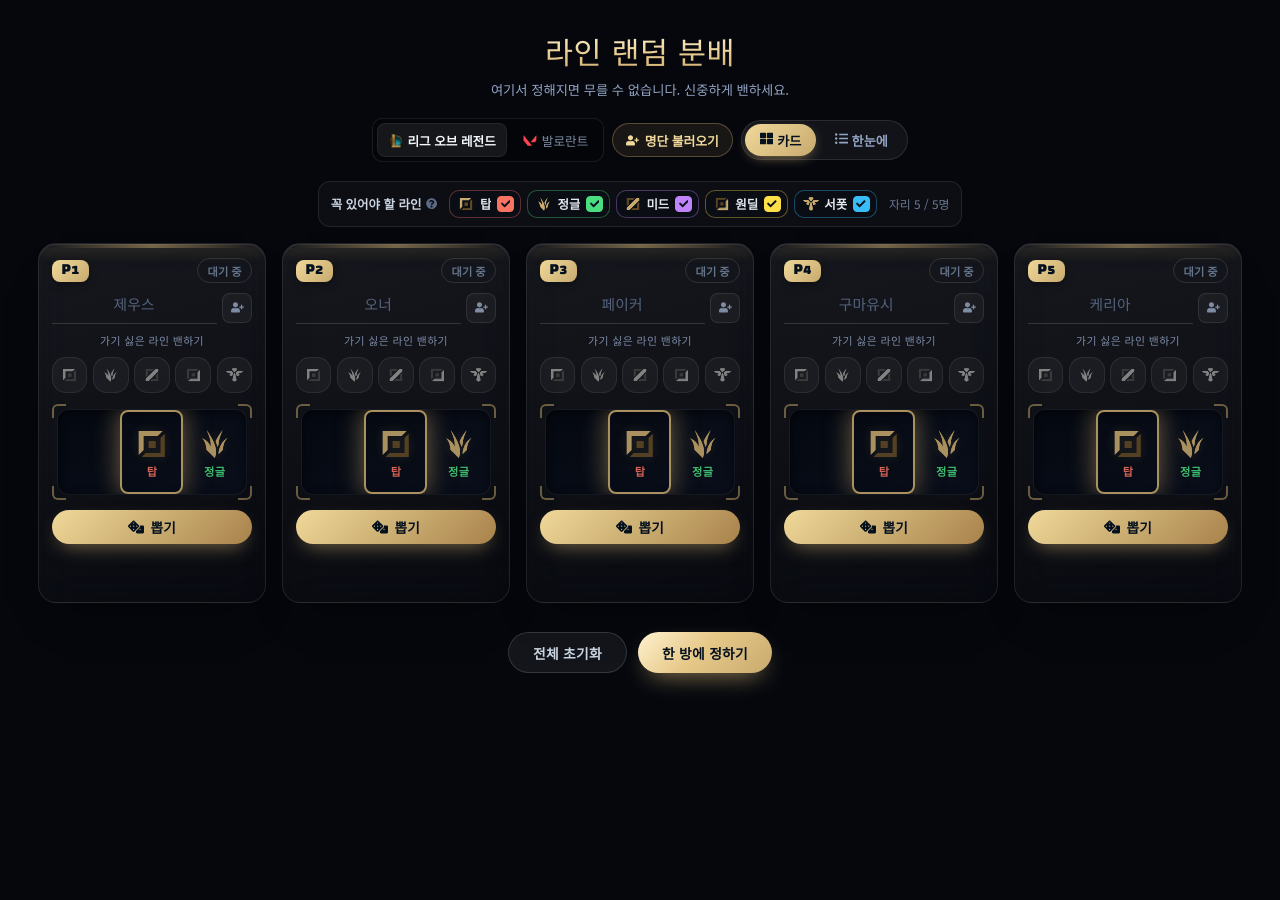
Test: 명단에서 팀원을 고르면 저장된 못 가는 라인이 자동으로 밴된다
Click the button "한눈에" at (861, 140), box [820, 124, 903, 156]
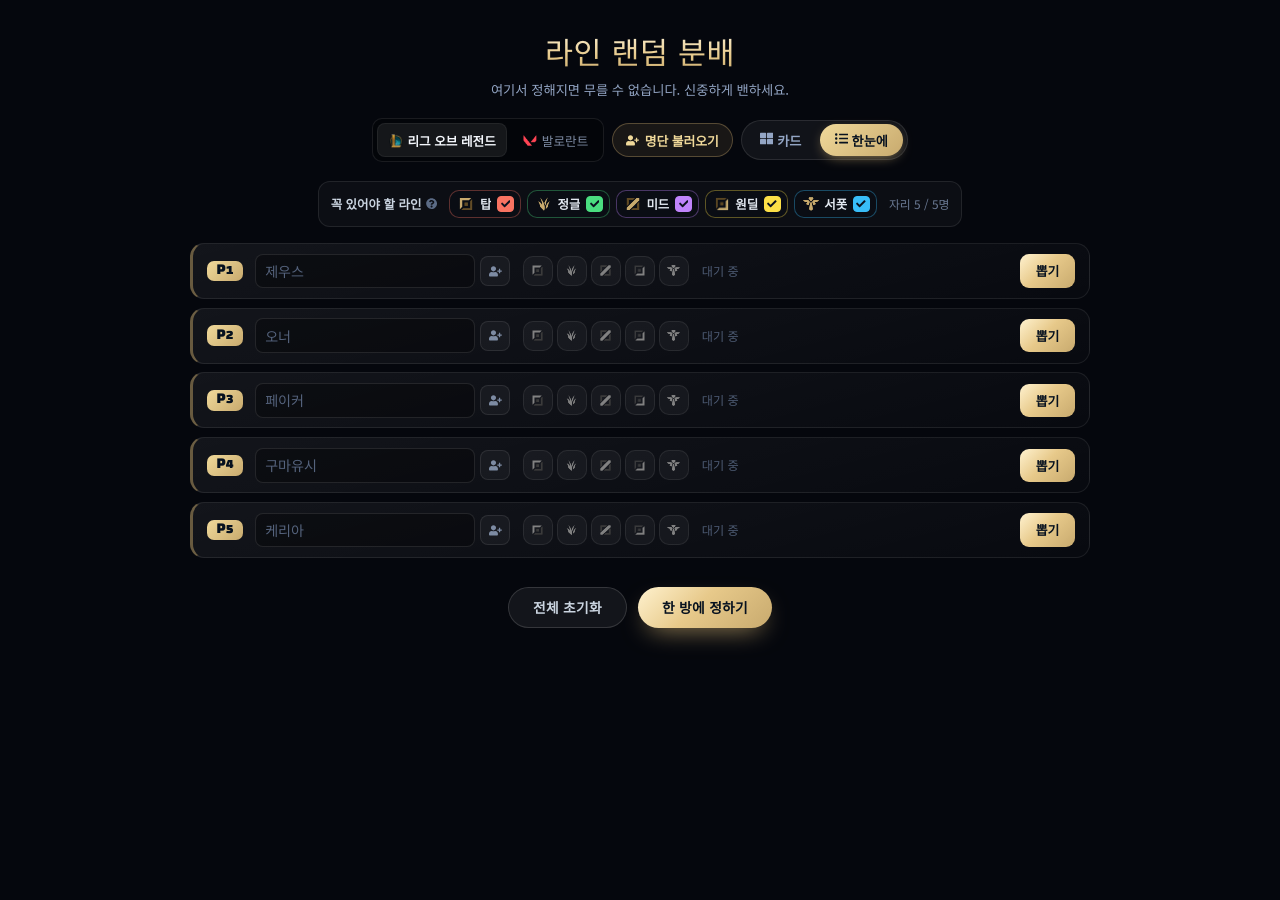
Click the 1st button named "저장된 팀원 불러오기" at (495, 271), box [480, 256, 510, 286]
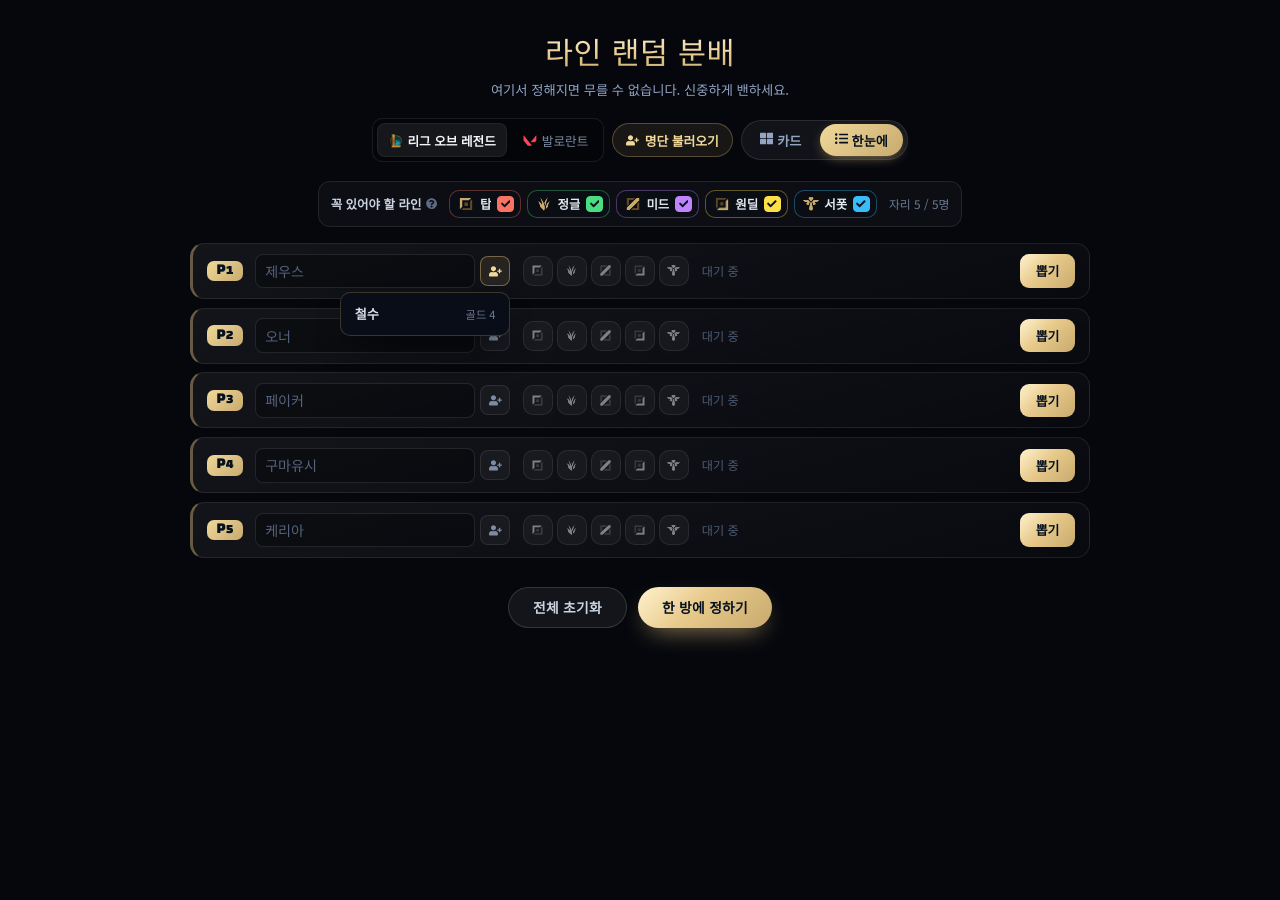
Click the button "철수 골드 4" at (425, 314), box [346, 298, 504, 330]
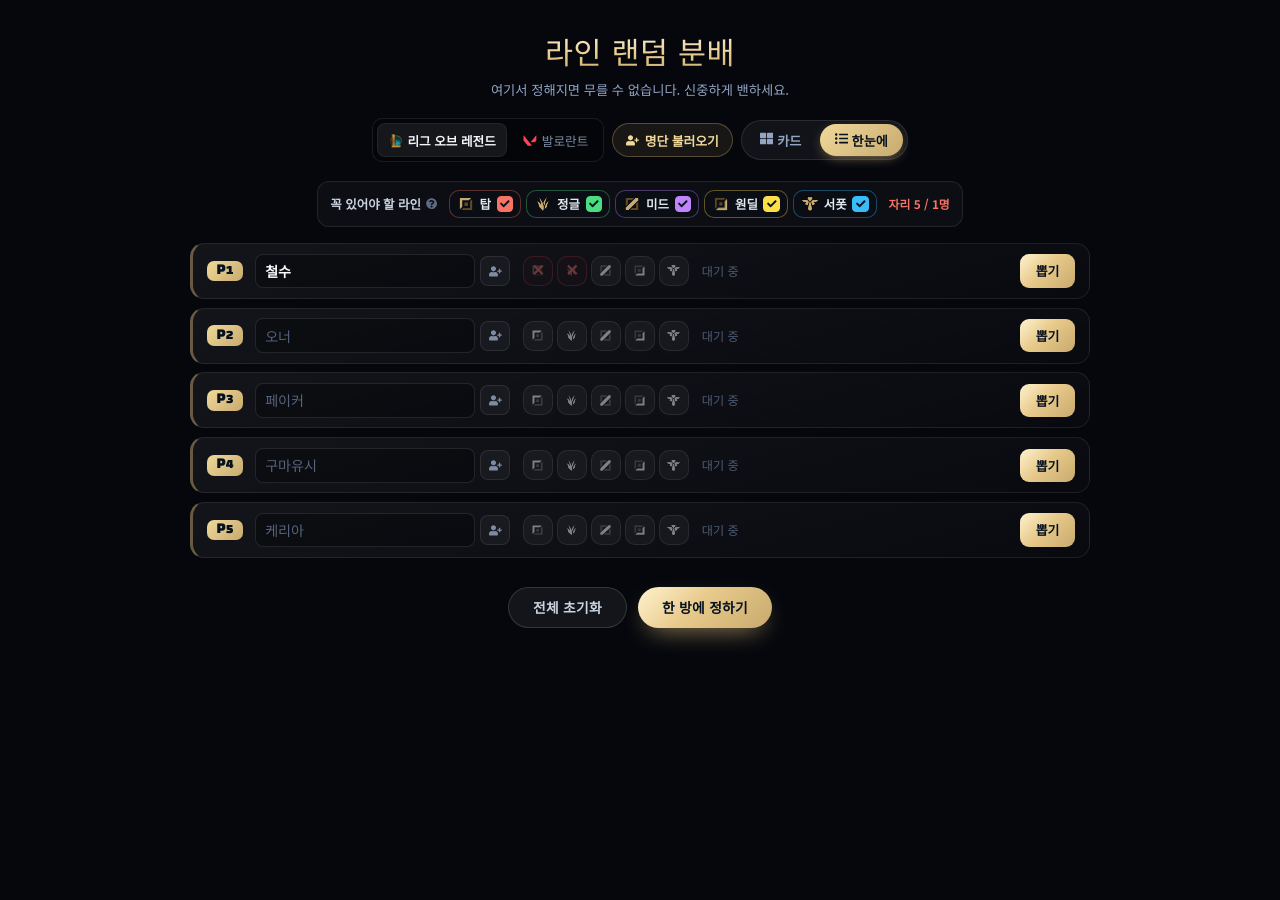
Check: the field with class "nameInput" holds "철수", box [255, 254, 475, 288]
